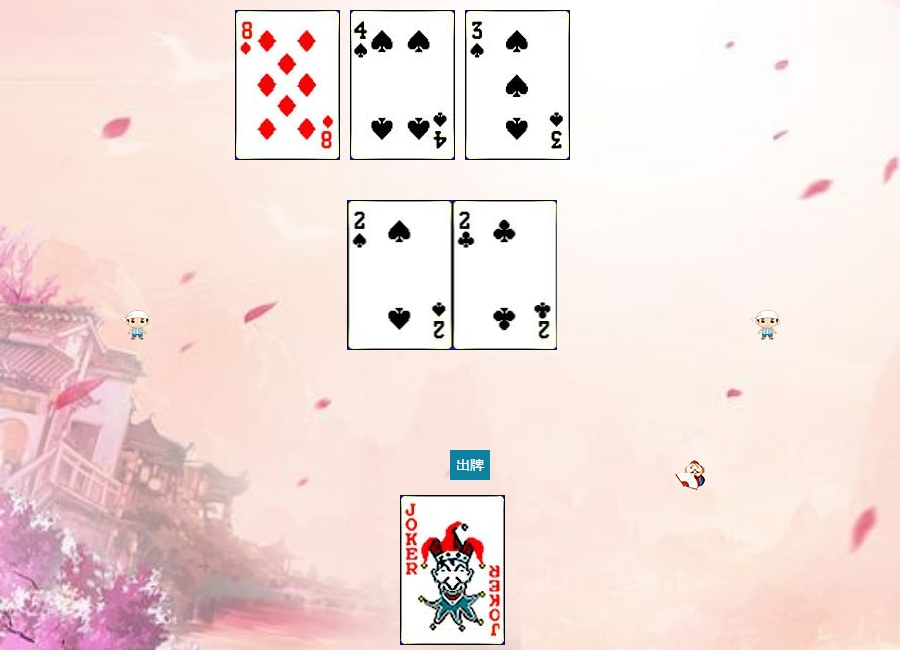15~2: (453, 200, 558, 350)
15~4: (348, 200, 453, 350)
18~4: (400, 495, 505, 645)
3~4: (465, 10, 570, 160)
4~4: (350, 10, 455, 160)
8~1: (235, 10, 340, 160)
